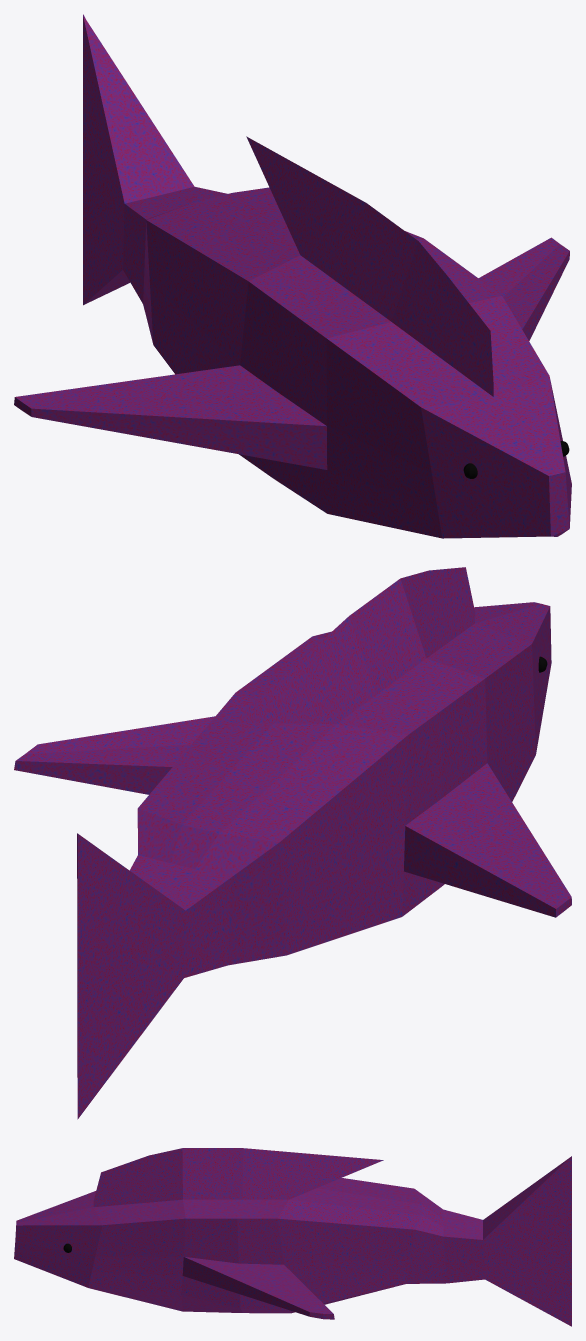
File: Fish1.glb
3 views of the same model, one above another, from view 1: azimuth 30°, elevation 25°; view 2: azimuth 150°, elevation 25°; view 3: azimuth 270°, elevation 25° (orthographic). The views are drawn at different scales.
Parts seen in each view (by area): view 1: fISH; view 2: fISH; view 3: fISH.
Boxes of the visible parts, bbox=[...] form: fISH: bbox=[14, 14, 571, 538]; fISH: bbox=[14, 567, 571, 1119]; fISH: bbox=[14, 1148, 571, 1326].
Size of the model in its own units: 0.3468 by 0.1865 by 0.5245.
2 materials, 2 textured.
